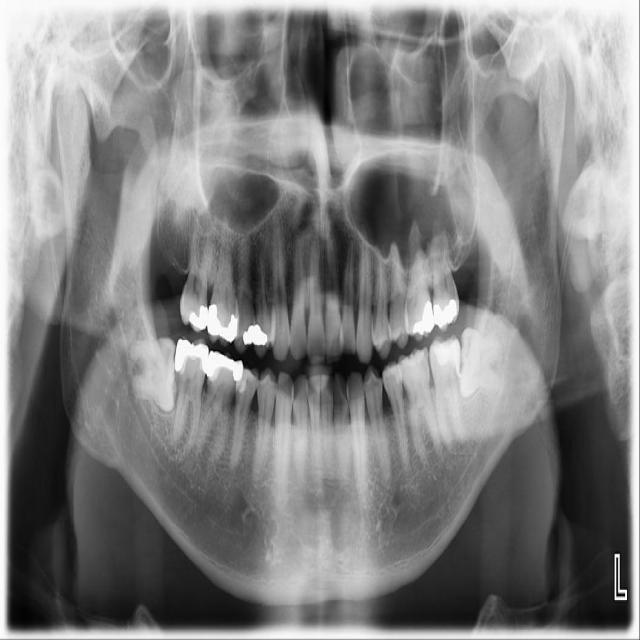52: (193, 348, 249, 405), (170, 334, 212, 390), (204, 291, 242, 348), (399, 291, 438, 344), (429, 334, 461, 386), (432, 277, 460, 332), (179, 281, 208, 332), (234, 293, 257, 355), (231, 364, 261, 406), (251, 312, 273, 360)
73: (593, 546, 601, 566)
BioHorizons Implant: (431, 217, 460, 333)
Biomet 3i Implant: (458, 326, 504, 399)
Blue Sky Bio Implant: (427, 333, 465, 446)
Caries: (177, 211, 217, 334)
Implant: (163, 334, 211, 456)
Keystone Dental Implant: (128, 336, 179, 413)
